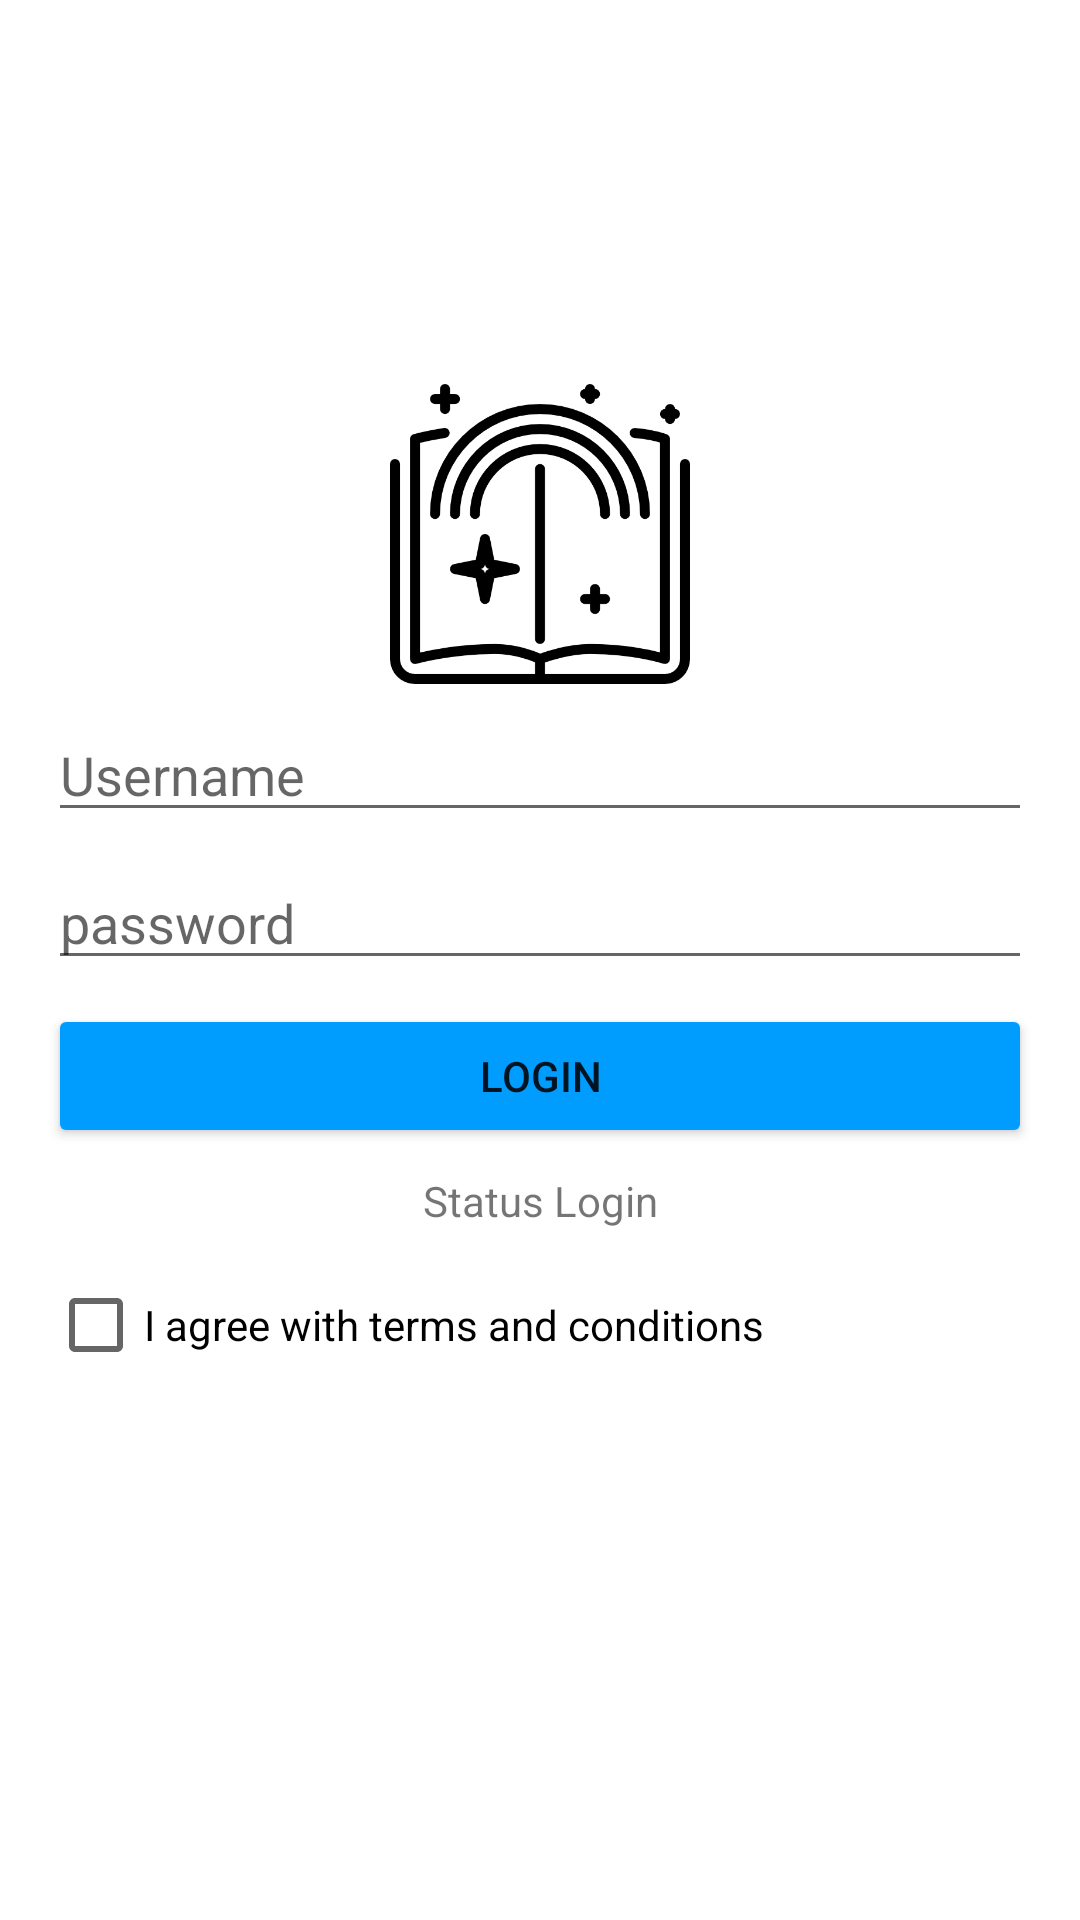

Icons on this 1080 × 1920 Android screen, each with the point to tap as (x=x, y=y):
mystory: (x=540, y=534)
